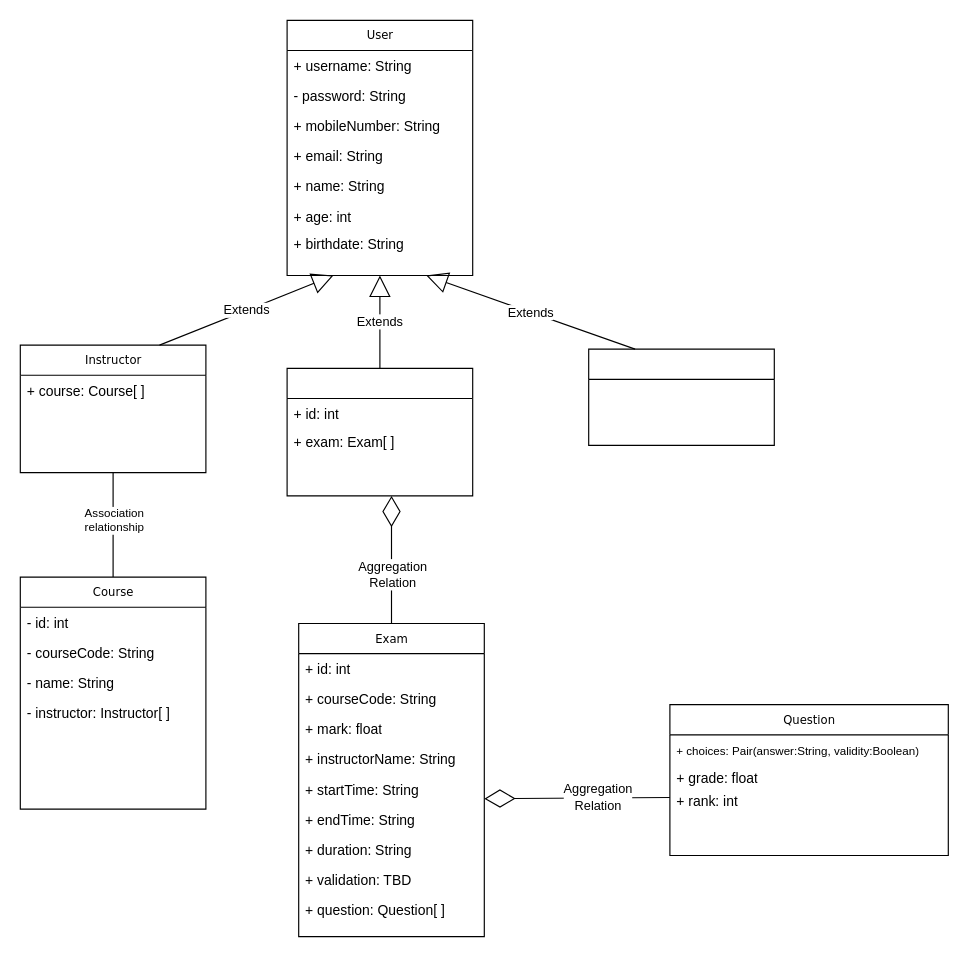
Some shapes in this 969 by 957 pixel diagram are drawn without their labels. Here are the shapes that lost their labels. From the top down, the box of each, then its label:
(588, 348, 774, 445): Administrator
(286, 367, 473, 496): Student
